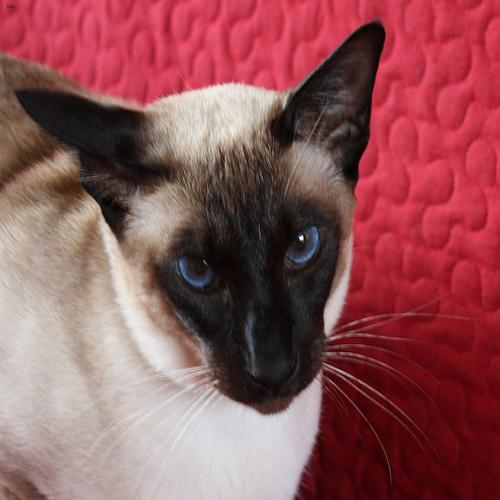siamese: (3, 15, 408, 435)
